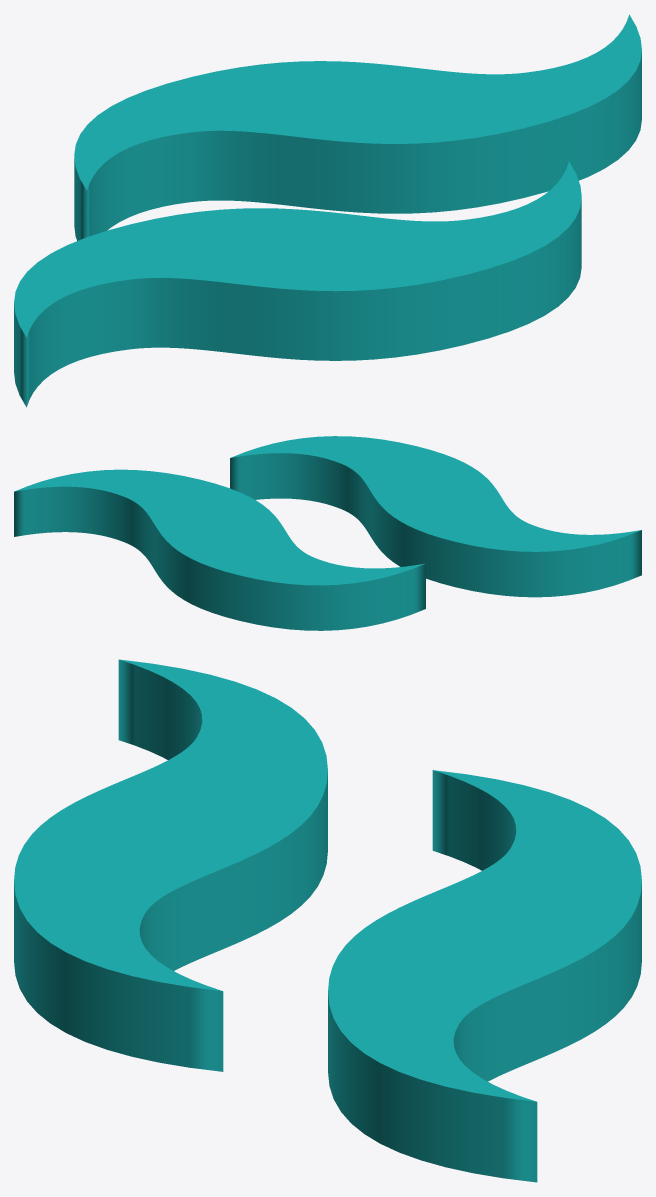
The model's file is tailwindcss.gltf.
The picture shows the model from 3 angles, top to bottom: view 1: azimuth 30°, elevation 25°; view 2: azimuth 150°, elevation 25°; view 3: azimuth 270°, elevation 25°; orthographic projection. The views are drawn at different scales.
Parts seen in each view (by area): view 1: Curve; view 2: Curve; view 3: Curve.
Boxes of the visible parts, x1=… form: Curve: x1=14, y1=14, x2=641, y2=407; Curve: x1=14, y1=436, x2=641, y2=630; Curve: x1=14, y1=659, x2=641, y2=1182.
Bounding box in the file's own units: 0.7056 × 0.06 × 0.4233.
